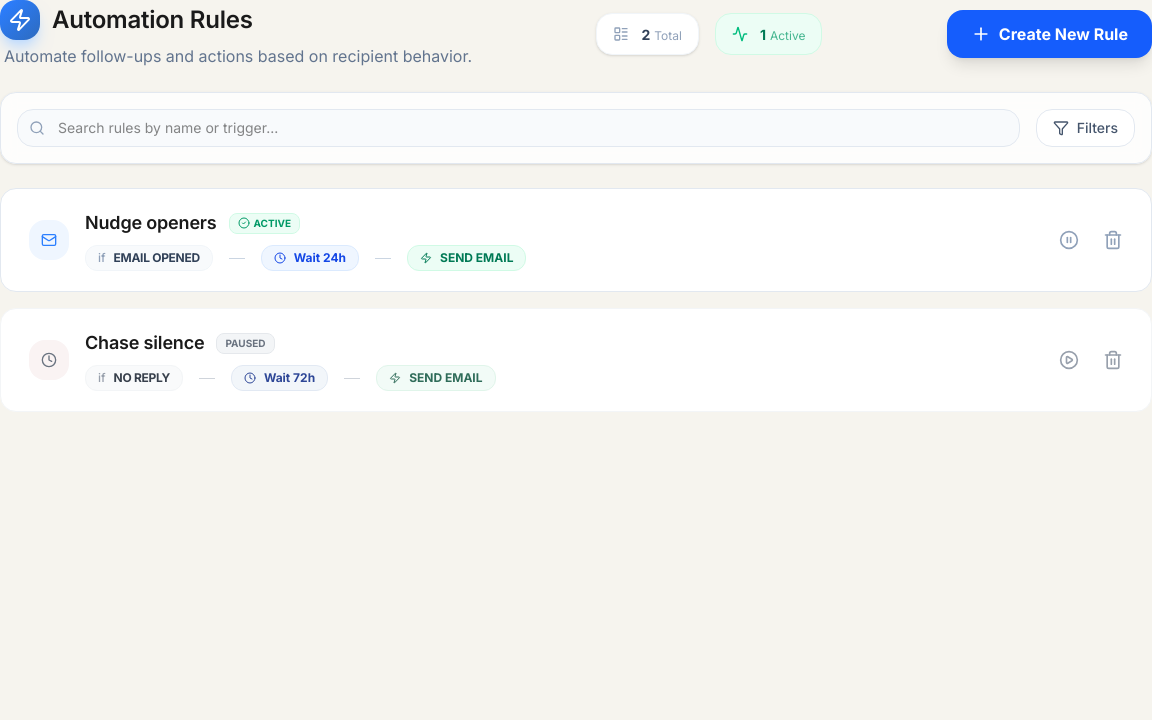
AutomationRules page › reports a failed create in a toast (F5: no alert())
Expected: the heading "Nudge openers" is shown, [85,209,216,237]
Click the button "Create New Rule": click(1049, 34) [947,10,1151,58]
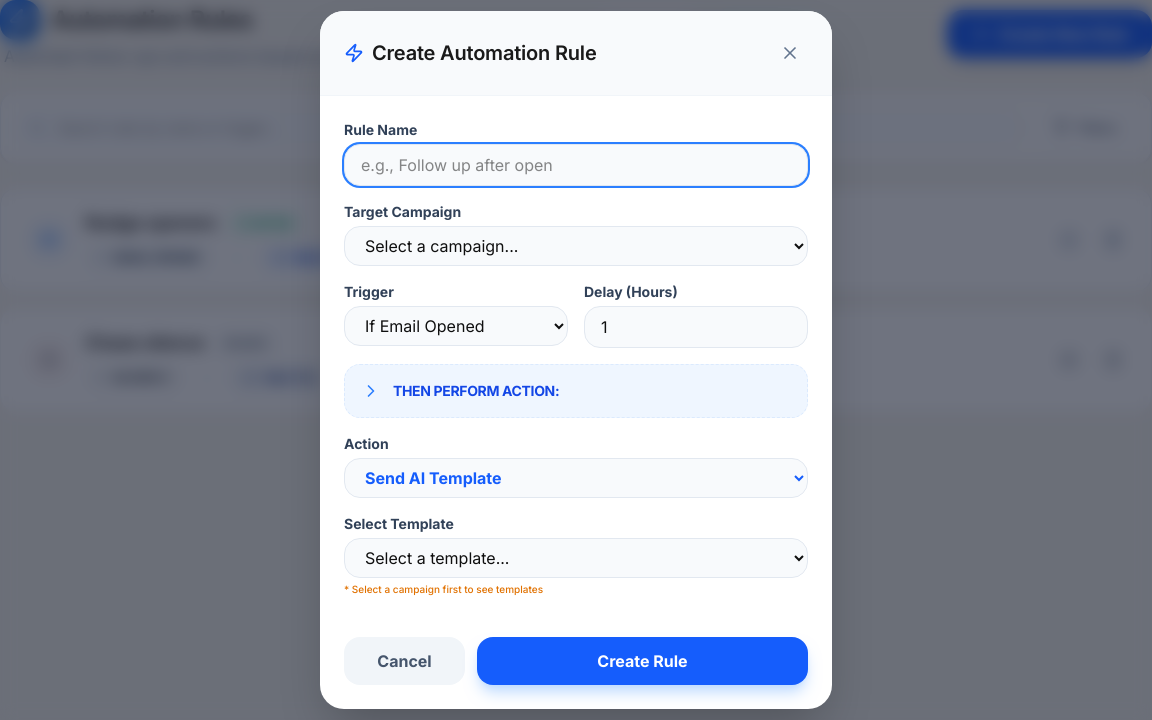
In the field with placeholder "e.g., Follow up after open": (576, 165) [344,144,808,186], type "New rule"
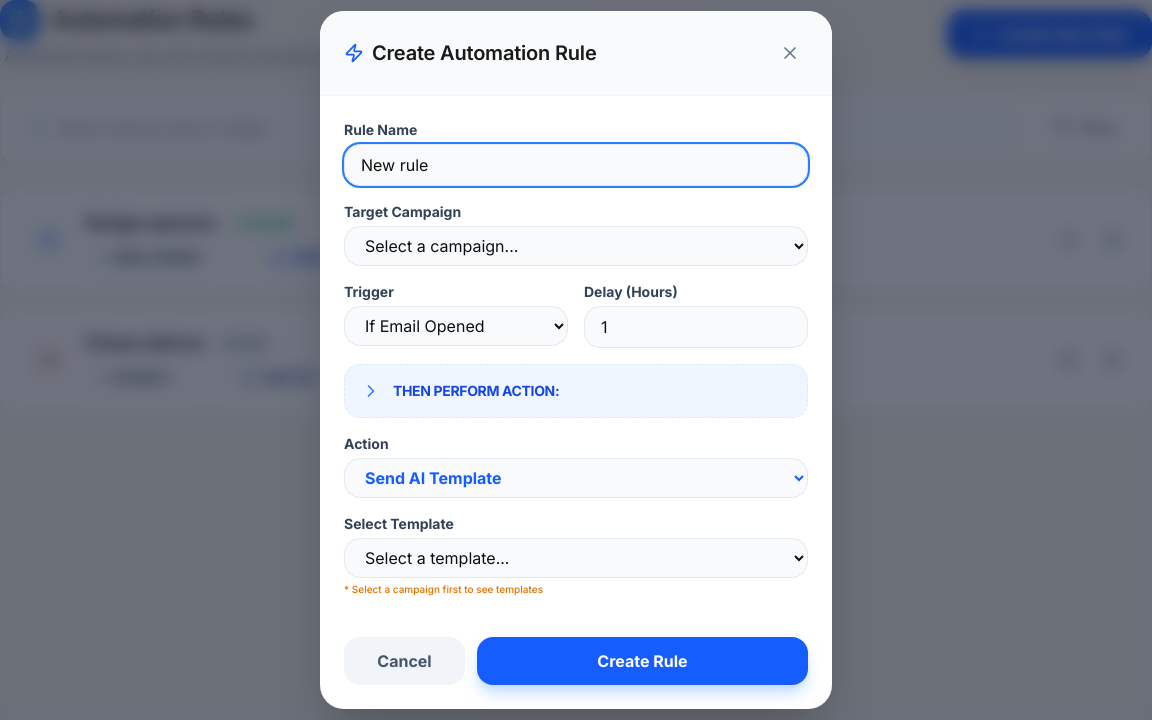
Select "Pause this contact" in the 3rd dropdown: (576, 478) [344,458,808,498]
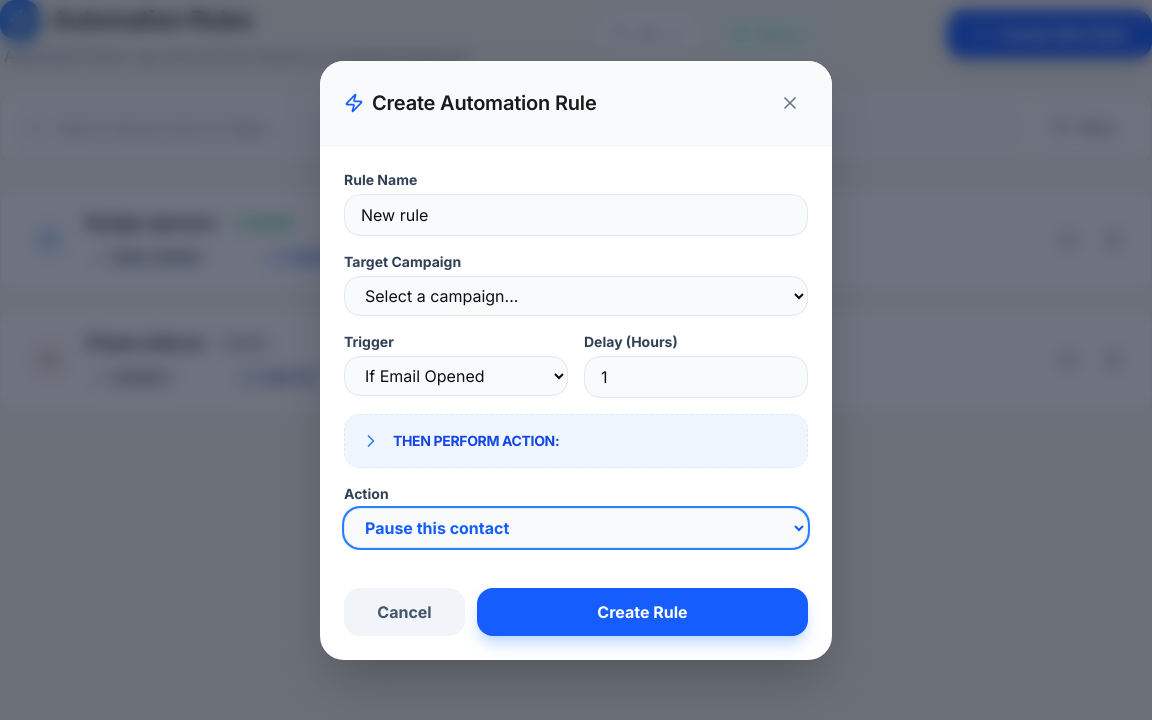
Select "Campaign c-1" in the dropdown below "Target Campaign": (576, 296) [344,276,808,316]
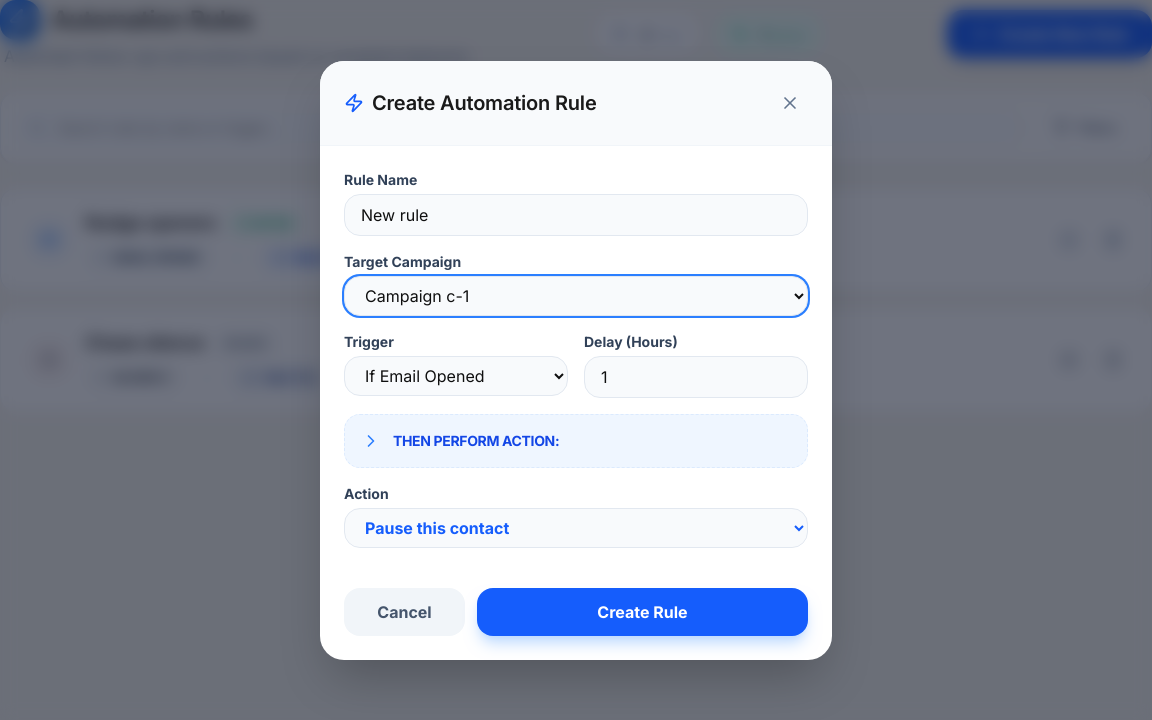
Click the button "Create Rule": click(642, 612) [477,588,808,636]
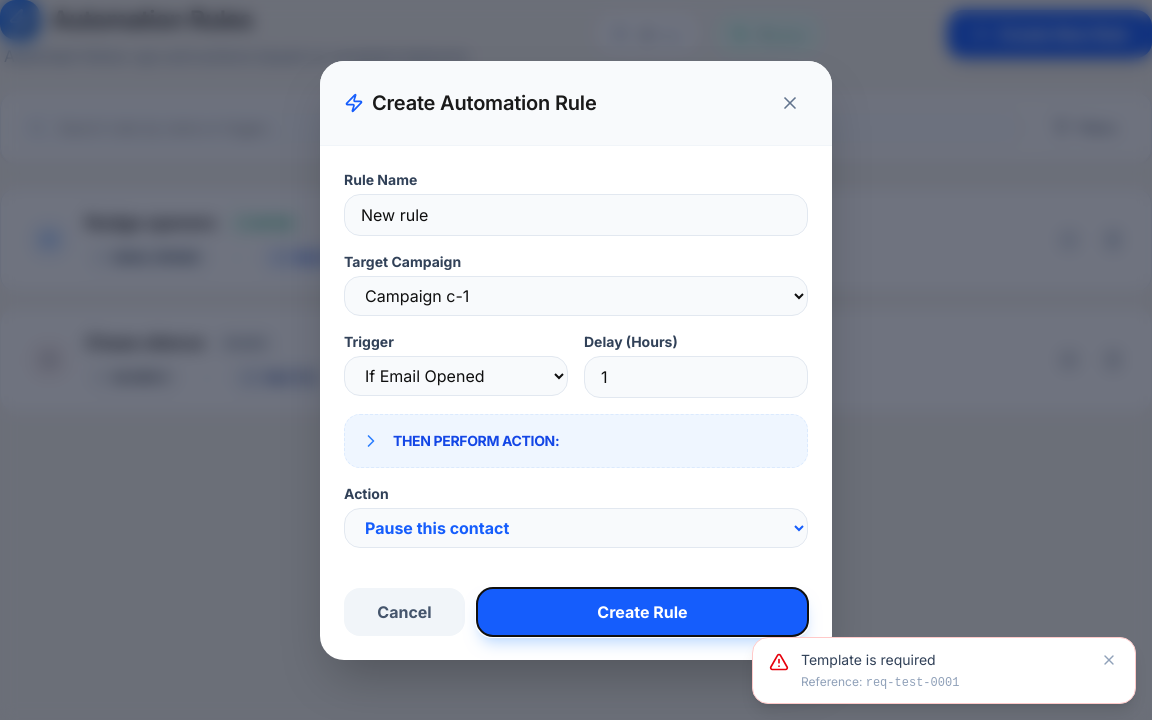
Now the dialog "Create Automation Rule" is shown, box [320,60,832,660]
Now the element with test id "toast-error" shows "Template is required", box [801,651,936,668]
